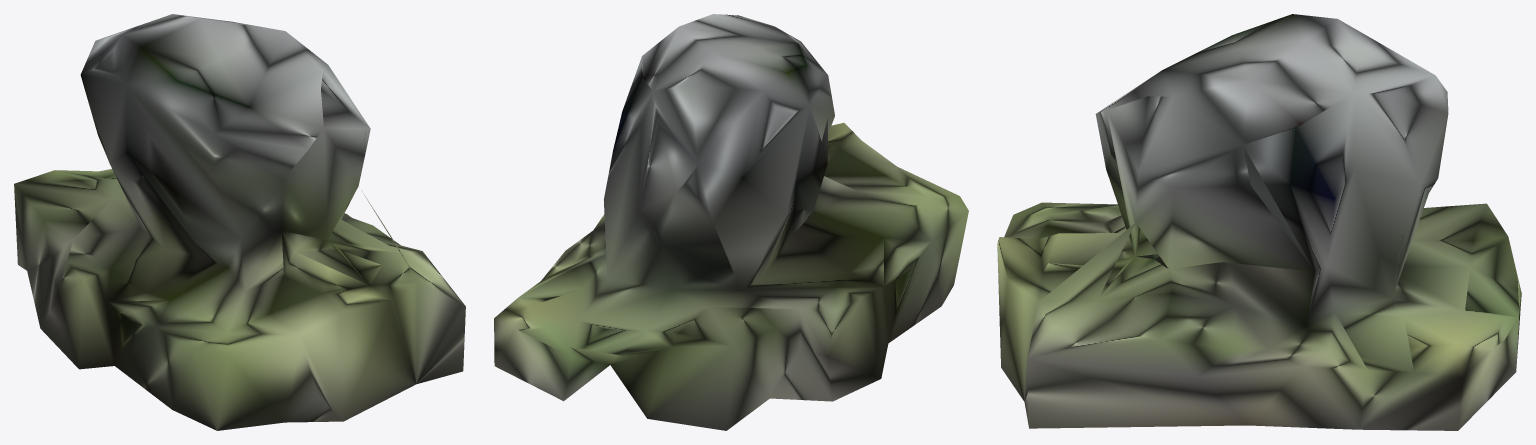
Rendered from boulder_far.glb.
The picture shows the model from 3 angles, left to right: view 1: azimuth 30°, elevation 25°; view 2: azimuth 150°, elevation 25°; view 3: azimuth 270°, elevation 25°; orthographic projection. The views are drawn at different scales.
Parts seen in each view (by area): view 1: boulder; view 2: boulder; view 3: boulder.
Part boxes in pixels (x1,y1,x2,y2): boulder: (14,14,465,430); boulder: (494,14,968,430); boulder: (997,14,1521,430).
Size of the model in its own units: 1.01 by 1 by 1.46.
